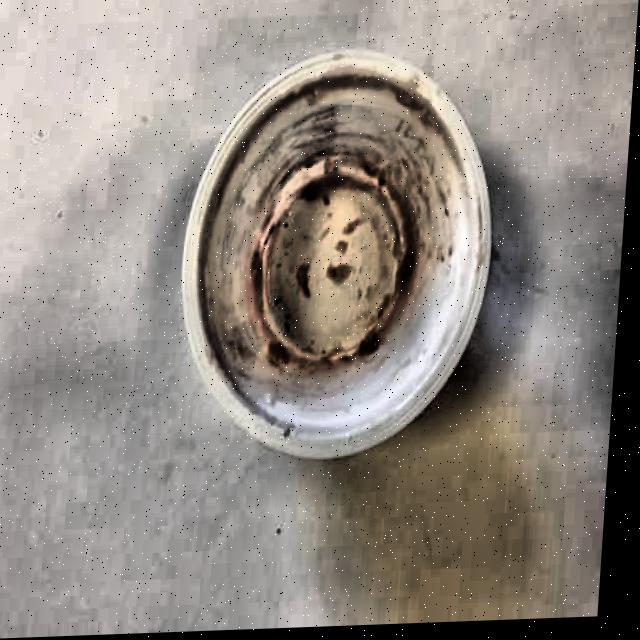plastic: (149, 29, 535, 504)
